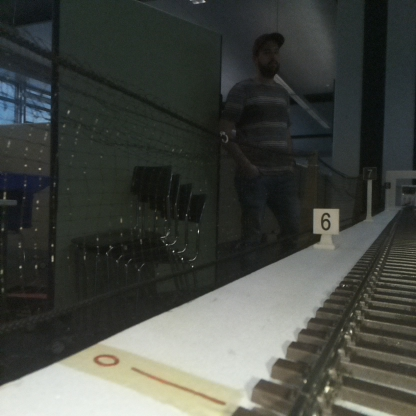black-info-7: (363, 167, 376, 220)
white-stop-6: (313, 209, 339, 246)
